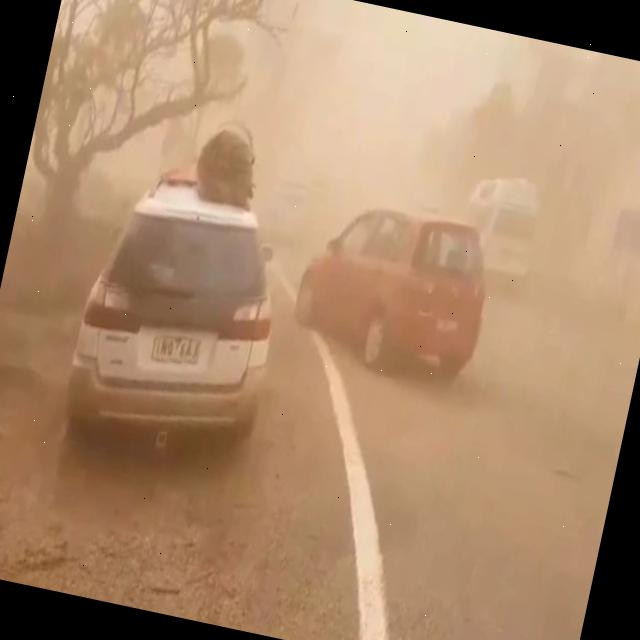car: (52, 149, 306, 474), (285, 188, 502, 388)
truck: (447, 165, 548, 298)
